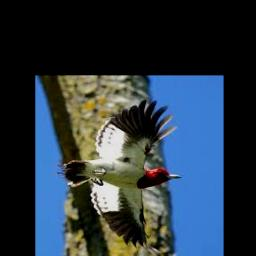Woodpecker: (58, 100, 182, 253)
